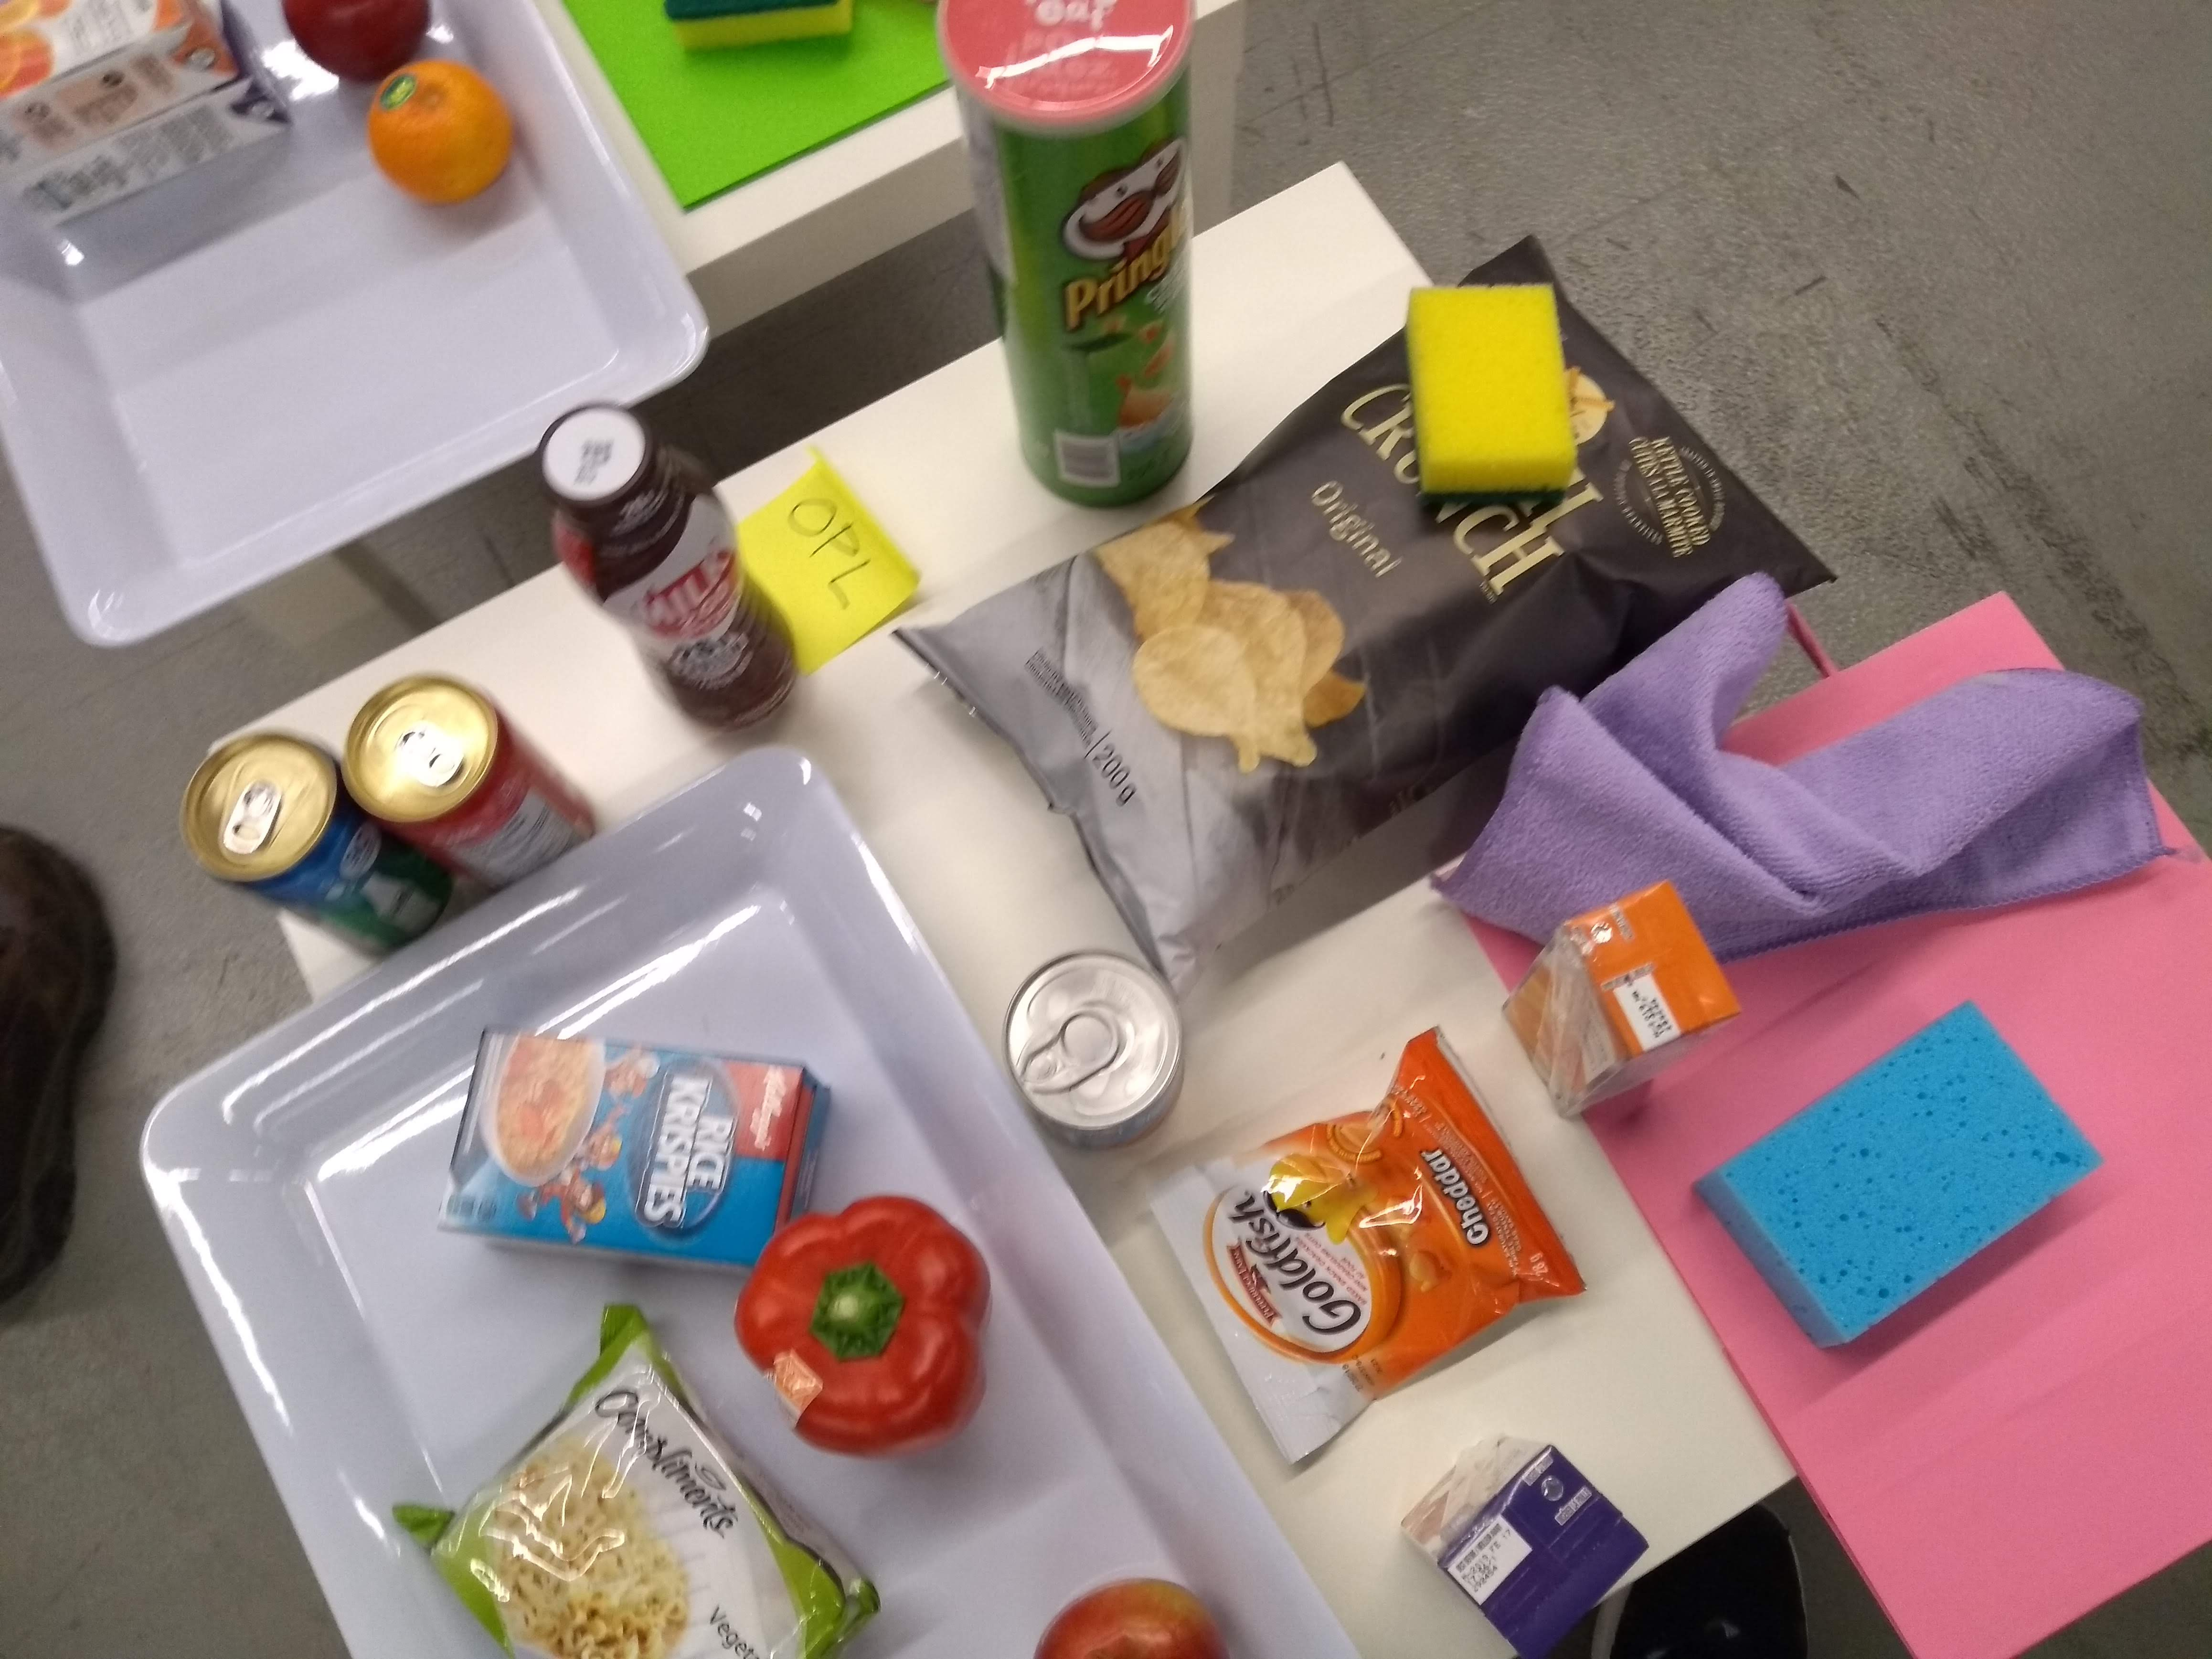cereal: (423, 1011, 841, 1300)
chocolate_drink: (529, 396, 808, 742)
cloth_opl: (1428, 570, 2188, 965)
coke: (333, 664, 603, 892)
crackers: (1103, 1019, 1602, 1481)
grape_juice: (1392, 1422, 1656, 1659)
orange_juice: (1493, 873, 1749, 1133)
paprika: (723, 1175, 1003, 1481)
sausages: (998, 945, 1195, 1157)
scrubby: (1393, 275, 1581, 518)
sponge_opl: (1686, 986, 2113, 1366)
sprite: (171, 727, 460, 969)
